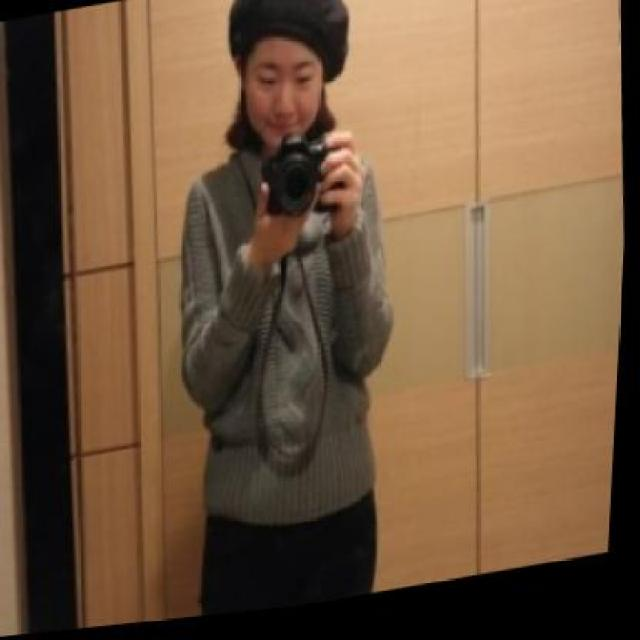hat: (220, 0, 358, 111)
